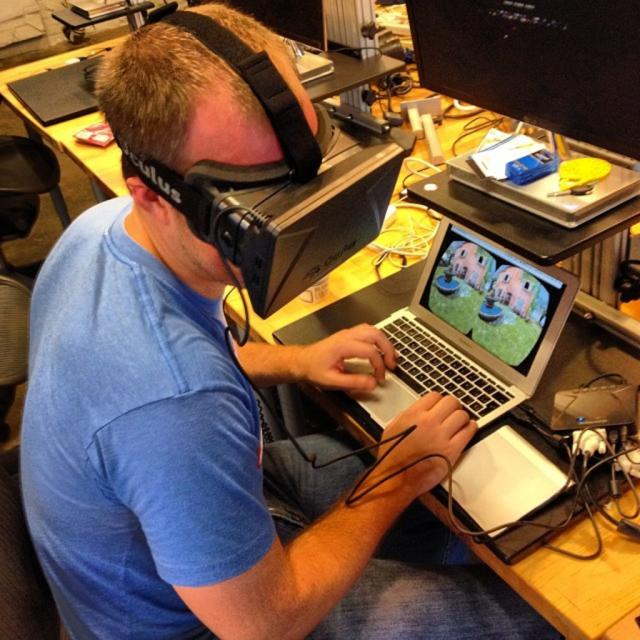keyboard-with-hands: (310, 305, 532, 470)
